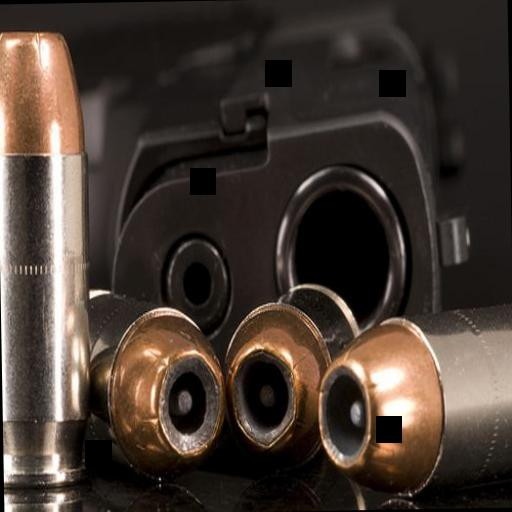Handgun: (0, 0, 464, 435)
